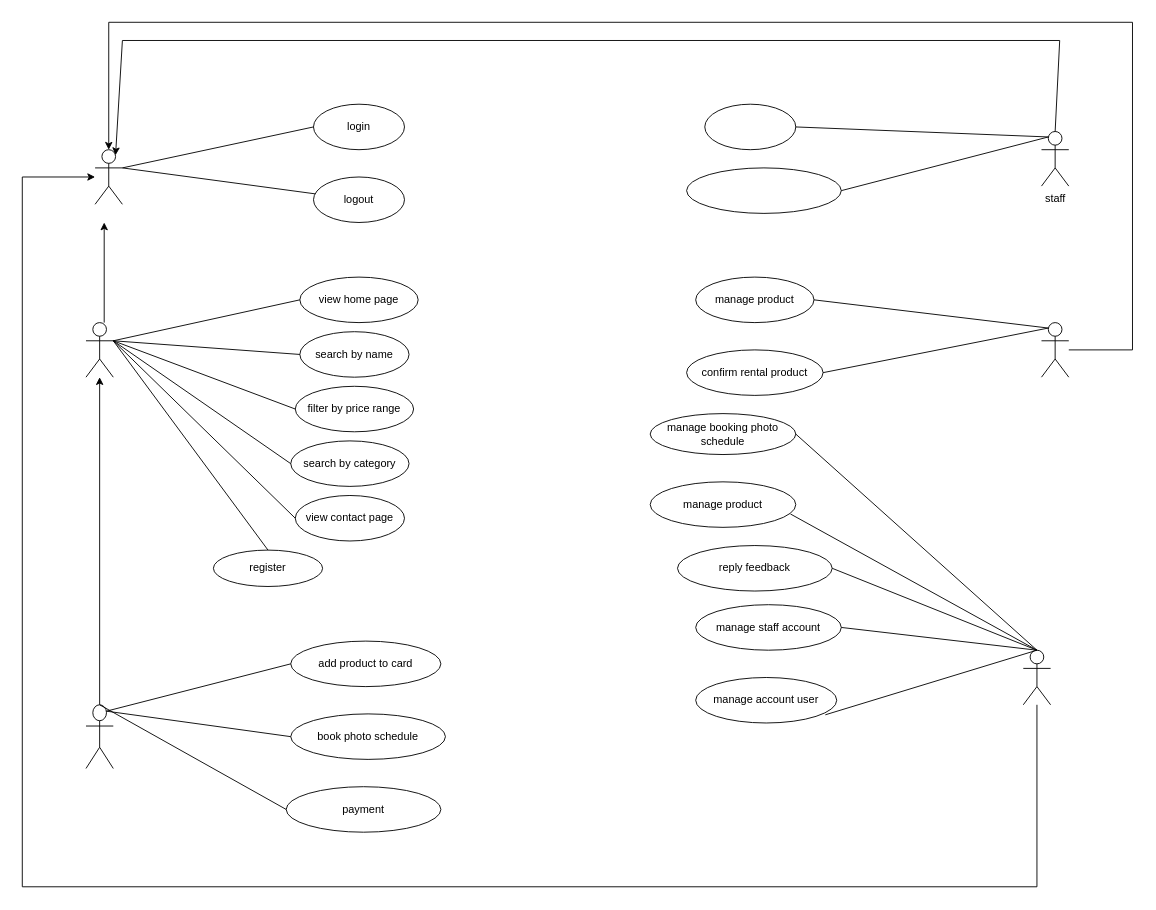
This 1156x910 diagram has some shape labels left out. The shapes that lost their labels are listed below. From the top down, each one's centre as x and y in pixels, then its label:
[750,126]: manage location
[108,176]: general actor
[763,190]: confirm booking photo schedule
[99,349]: guest
[1055,349]: rental staff
[1036,677]: admin
[99,736]: user
